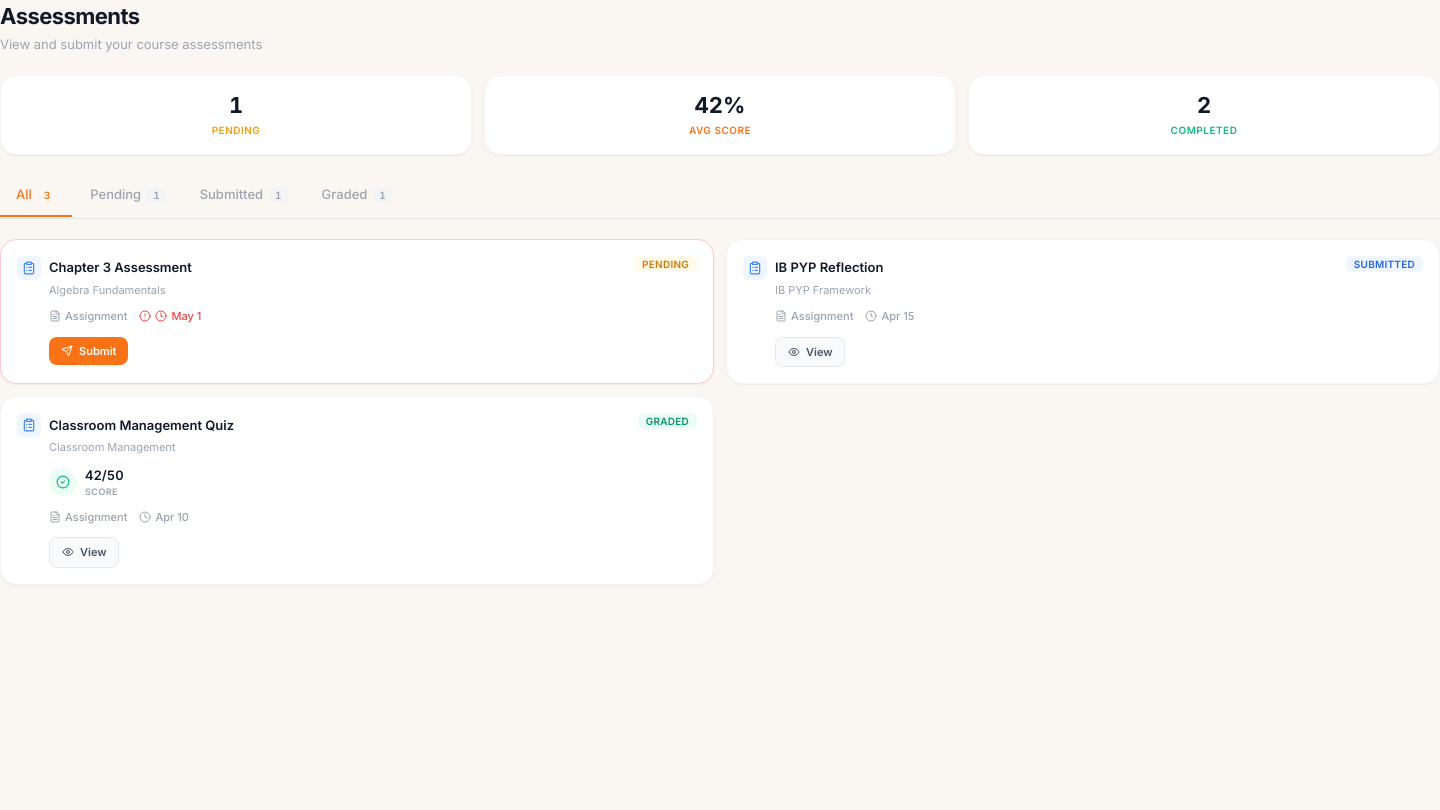
Test case: AssignmentsPage › Submit action for PENDING text assignment › clicking "Submit" opens the submission textarea modal
Check: the heading "Chapter 3 Assessment" is shown, box [49,259,192,276]
Click the button "Submit" at (89, 351), box [49,336,128,365]
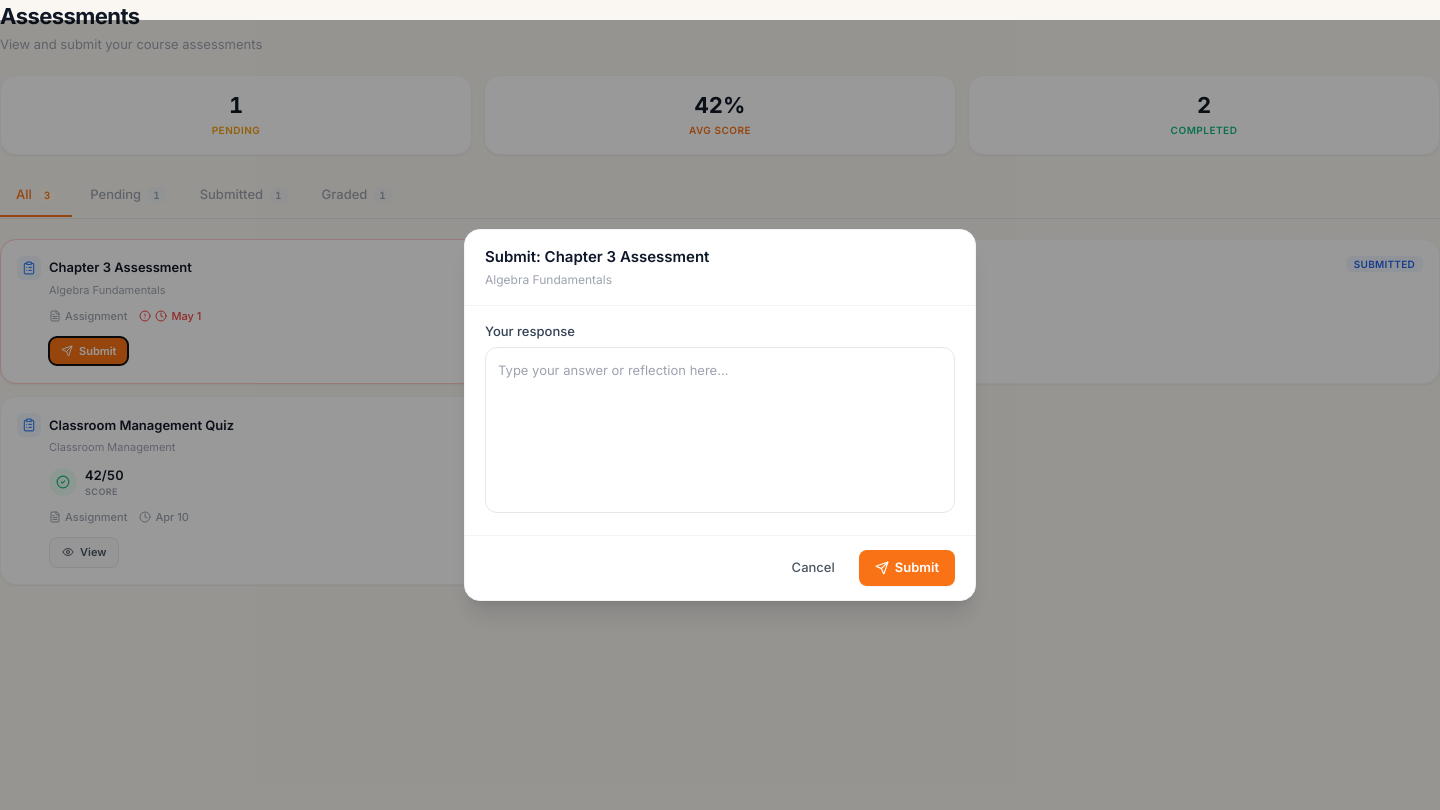
Check: the text box with placeholder "Type your answer or reflection here..." is shown, box [485,347,955,513]
